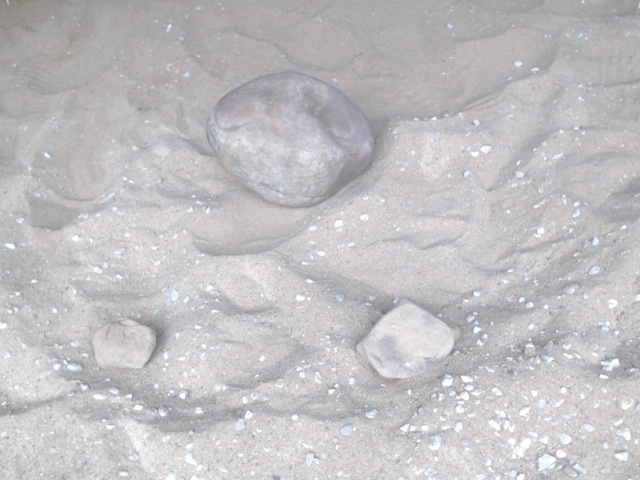rock: (201, 67, 381, 215), (349, 291, 467, 387), (88, 312, 163, 375)
